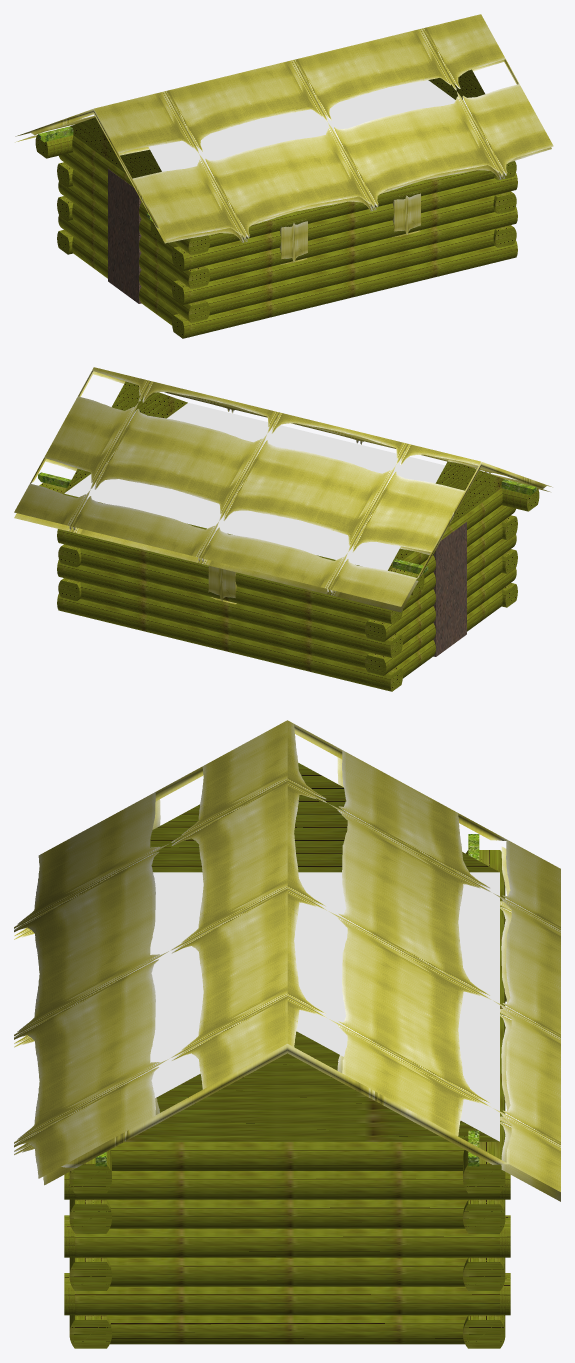
The model's file is Blockhuette.dae.
3 views of the same model, one above another, from view 1: azimuth 30°, elevation 25°; view 2: azimuth 150°, elevation 25°; view 3: azimuth 270°, elevation 25° (orthographic). The views are drawn at different scales.
Visible parts, largest first — view 1: Model, Balken (×14), Fenster (×2), Abschluss_2_8, Abschluss_2_9, Abschluss_2_11, Abschluss_2_10; view 2: Model, Balken (×13), Fenster, Abschluss_2_20, Abschluss_2_23, Abschluss_2_24, Abschluss_2_19; view 3: Model, Balken (×8), Abschluss_2_25, Abschluss_2_1, Abschluss_2_4, Abschluss_2_3, Abschluss_2_6, Abschluss_2_2, Abschluss_2_5, Abschluss_2_28.
Boxes of the visible parts, x1,y1,x2,y2 form: Model: [15, 14, 553, 303]; Balken (×14): [46, 135, 512, 337]; Fenster (×2): [279, 192, 420, 264]; Abschluss_2_8: [495, 191, 516, 214]; Abschluss_2_9: [495, 225, 516, 247]; Abschluss_2_11: [188, 266, 209, 288]; Abschluss_2_10: [188, 300, 209, 322]; Model: [14, 367, 552, 656]; Balken (×13): [62, 488, 528, 690]; Fenster: [208, 565, 236, 604]; Abschluss_2_20: [365, 619, 386, 641]; Abschluss_2_23: [58, 544, 79, 567]; Abschluss_2_24: [58, 578, 79, 600]; Abschluss_2_19: [365, 653, 386, 675]; Model: [14, 720, 560, 1201]; Balken (×8): [75, 872, 505, 1344]; Abschluss_2_25: [463, 1142, 505, 1193]; Abschluss_2_1: [463, 1199, 505, 1233]; Abschluss_2_4: [69, 1199, 111, 1233]; Abschluss_2_3: [463, 1315, 505, 1348]; Abschluss_2_6: [69, 1315, 111, 1348]; Abschluss_2_2: [463, 1257, 505, 1290]; Abschluss_2_5: [69, 1257, 111, 1290]; Abschluss_2_28: [69, 1158, 111, 1193].
Bounding box in the file's own units: 8 × 5.72 × 3.78.
